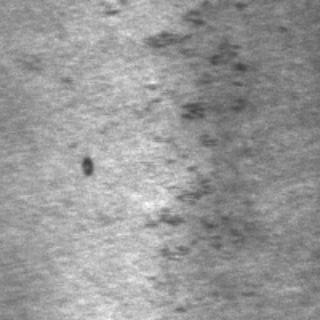rolled pit: (136, 13, 244, 257)
